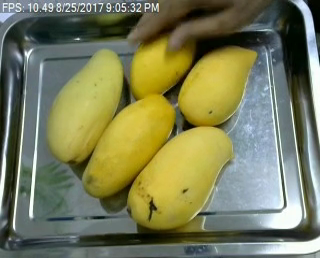Mango: (123, 125, 235, 230), (78, 94, 176, 200), (47, 47, 125, 170), (178, 44, 259, 129), (127, 32, 196, 100)
